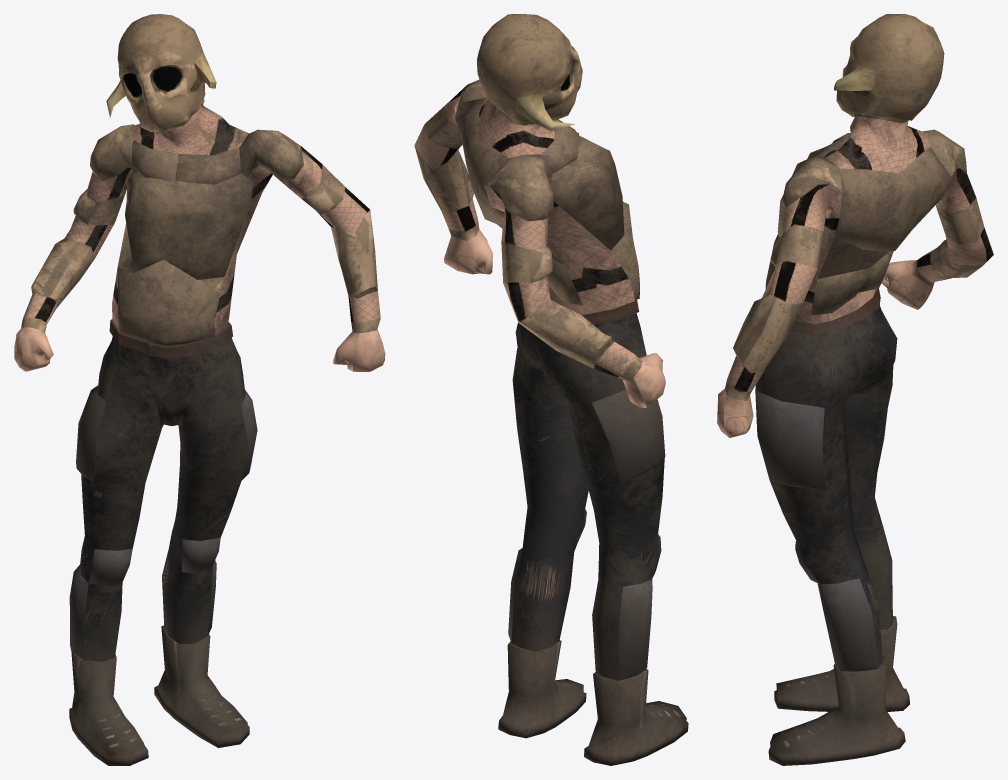
The model's file is Anim_recibirdanyo_npc1.0016.obj.
3 renders of one model, left to right at view 1: azimuth 30°, elevation 25°; view 2: azimuth 150°, elevation 25°; view 3: azimuth 270°, elevation 25°, orthographic. The views are drawn at different scales.
Visible parts, largest first — view 1: NPC2; view 2: NPC2; view 3: NPC2.
Boxes of the visible parts, x1=… form: NPC2: x1=14, y1=14, x2=385, y2=765; NPC2: x1=414, y1=14, x2=688, y2=765; NPC2: x1=717, y1=14, x2=993, y2=765.
Bounding box in the file's own units: 4.17 × 9.47 × 3.25.
